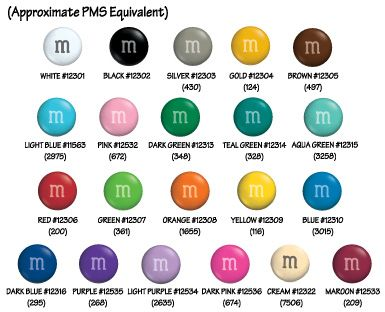mm: (17, 243, 58, 283), (233, 96, 273, 136), (236, 170, 276, 210), (210, 243, 250, 283), (332, 243, 372, 283), (38, 170, 77, 211), (141, 244, 182, 283), (109, 26, 149, 65), (304, 98, 344, 137), (103, 171, 143, 210), (170, 171, 210, 210), (302, 171, 342, 210), (270, 243, 310, 282), (43, 27, 82, 66), (173, 27, 212, 66), (231, 26, 270, 65), (293, 28, 332, 67), (161, 98, 200, 137), (79, 244, 118, 283), (37, 98, 76, 136), (100, 96, 137, 135)
